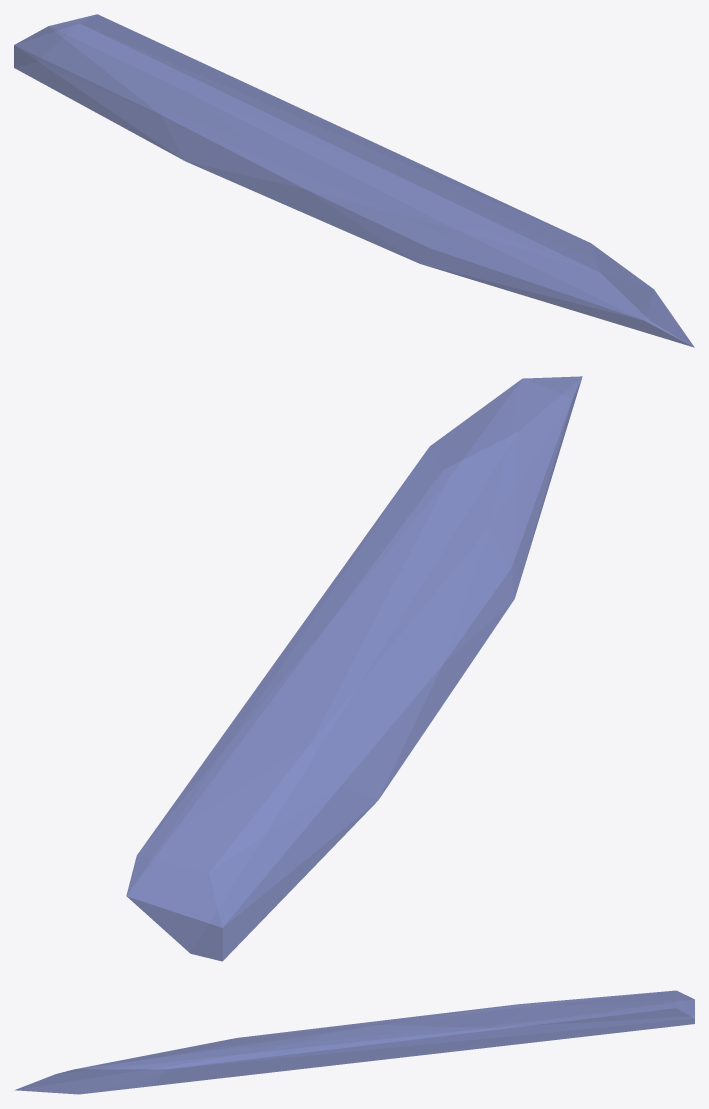
3 renders of one model, top to bottom at view 1: azimuth 30°, elevation 25°; view 2: azimuth 150°, elevation 25°; view 3: azimuth 270°, elevation 25°, orthographic. The views are drawn at different scales.
Parts seen in each view (by area): view 1: Shape_IndexedFaceSet.025_Shape_IndexedFaceSet.3410; view 2: Shape_IndexedFaceSet.025_Shape_IndexedFaceSet.3410; view 3: Shape_IndexedFaceSet.025_Shape_IndexedFaceSet.3410.
Part boxes in pixels (x1=…): Shape_IndexedFaceSet.025_Shape_IndexedFaceSet.3410: x1=14, y1=14, x2=694, y2=347; Shape_IndexedFaceSet.025_Shape_IndexedFaceSet.3410: x1=126, y1=376, x2=582, y2=961; Shape_IndexedFaceSet.025_Shape_IndexedFaceSet.3410: x1=14, y1=990, x2=694, y2=1094.
Bounding box in the file's own units: 0.0473 × 0.00946 × 0.1739.
